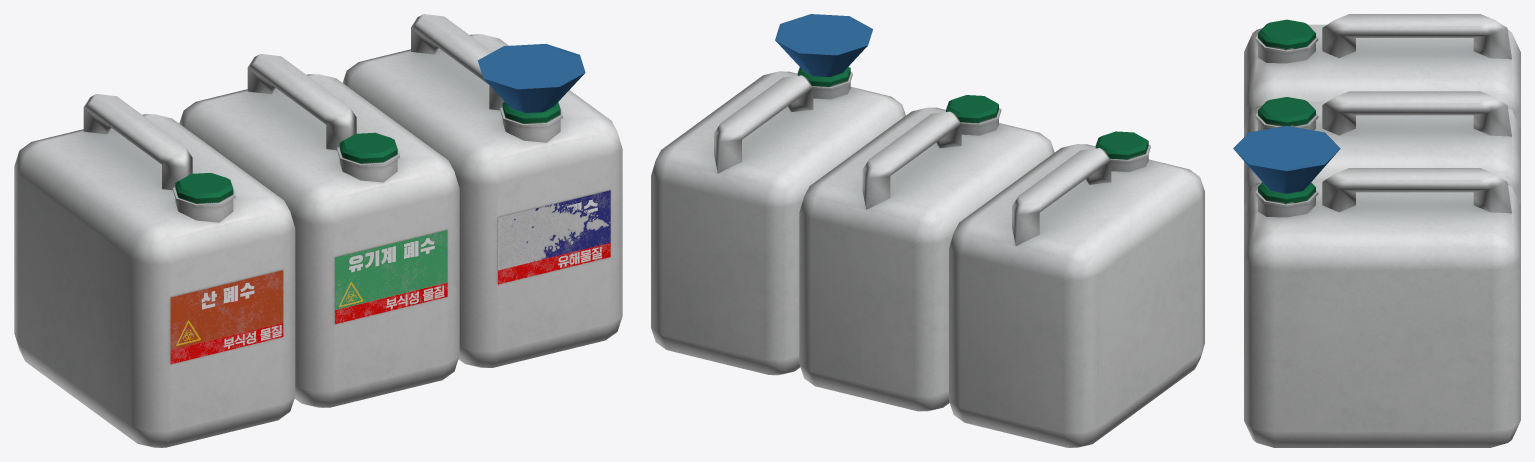
Rendered from Chem_ChemTank.fbx.
The picture shows the model from 3 angles, left to right: view 1: azimuth 30°, elevation 25°; view 2: azimuth 150°, elevation 25°; view 3: azimuth 270°, elevation 25°; orthographic projection. The views are drawn at different scales.
Visible parts, largest first — view 1: ChemTank1; view 2: ChemTank1; view 3: ChemTank1.
Part boxes in pixels (<box>): ChemTank1: <box>14,14,622,447</box>; ChemTank1: <box>651,14,1204,447</box>; ChemTank1: <box>1233,14,1520,447</box>.
Size of the model in its own units: 1.32 by 0.7317 by 0.6995.
